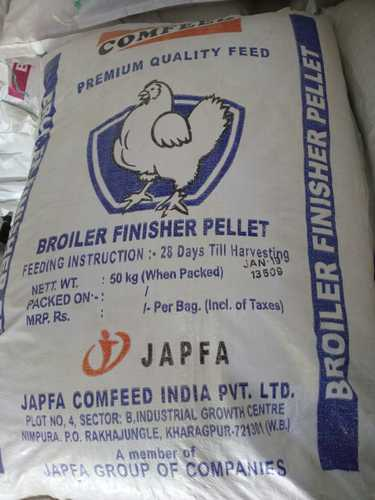feed_bag: (2, 7, 375, 500)
